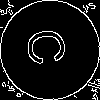C: (25, 25, 76, 68)
